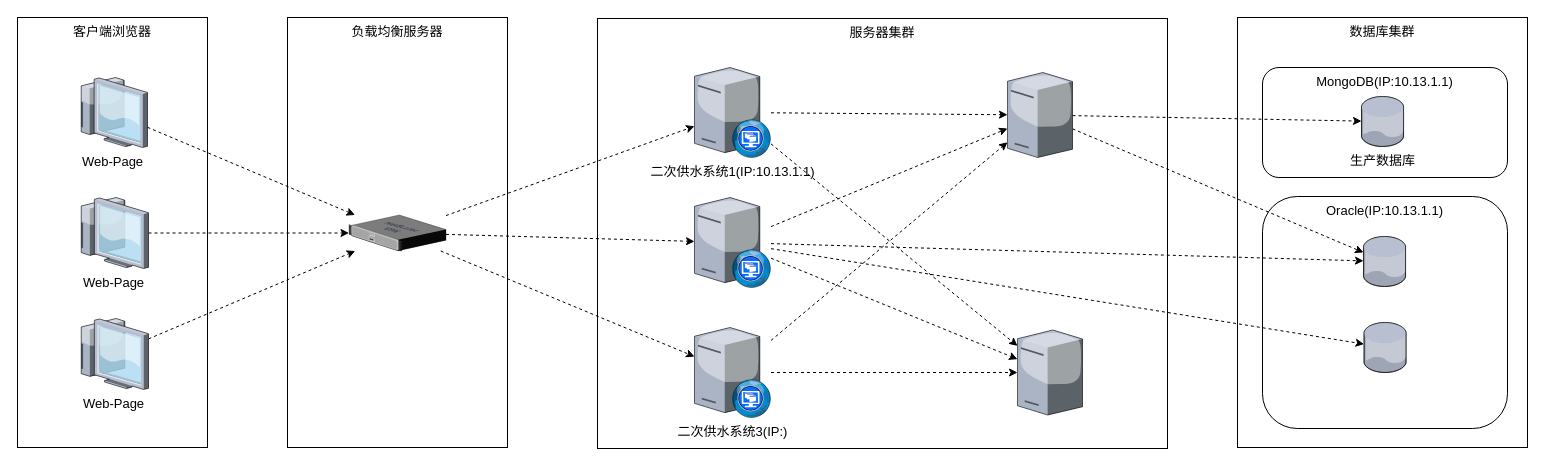
The diagram is 1545 pixels wide and 466 high, and some of its shapes have lost their labels. Each missing label, with the centre of its shape:
"F5负载均衡" belongs at [397,232].
"二供数据库" belongs at [1385,347].
"二次供水系统2(IP:)" belongs at [732,242].
"大数据平台(IP:10.13.1.1)" belongs at [1039,114].
"大数据平台(统计数据库)" belongs at [1384,261].
"微服务管理平台(IP:XXX)" belongs at [1049,372].
